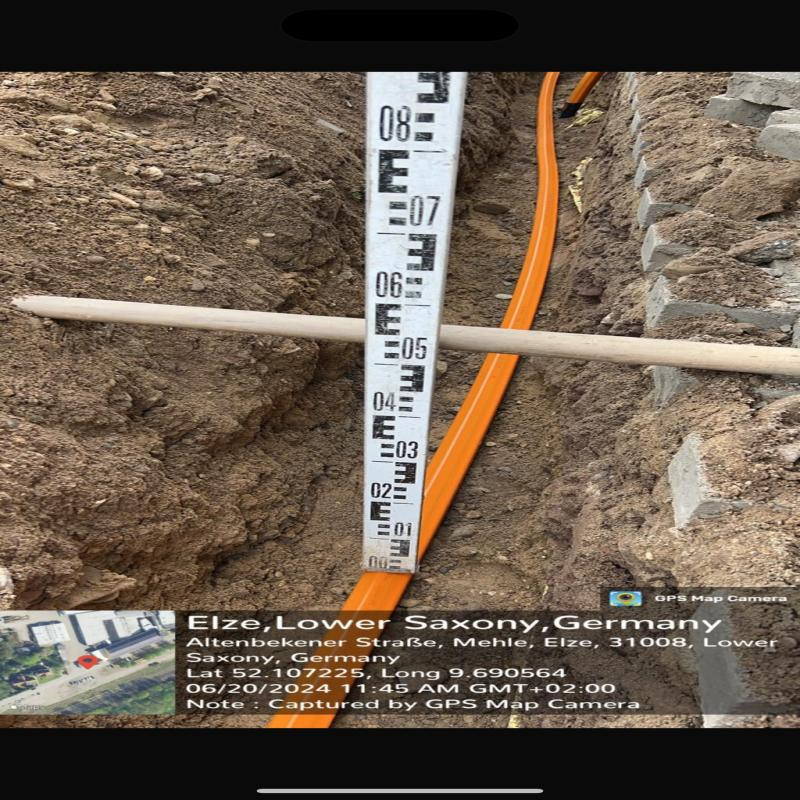Orang-Speednetrohrchen: (328, 196, 560, 611)
